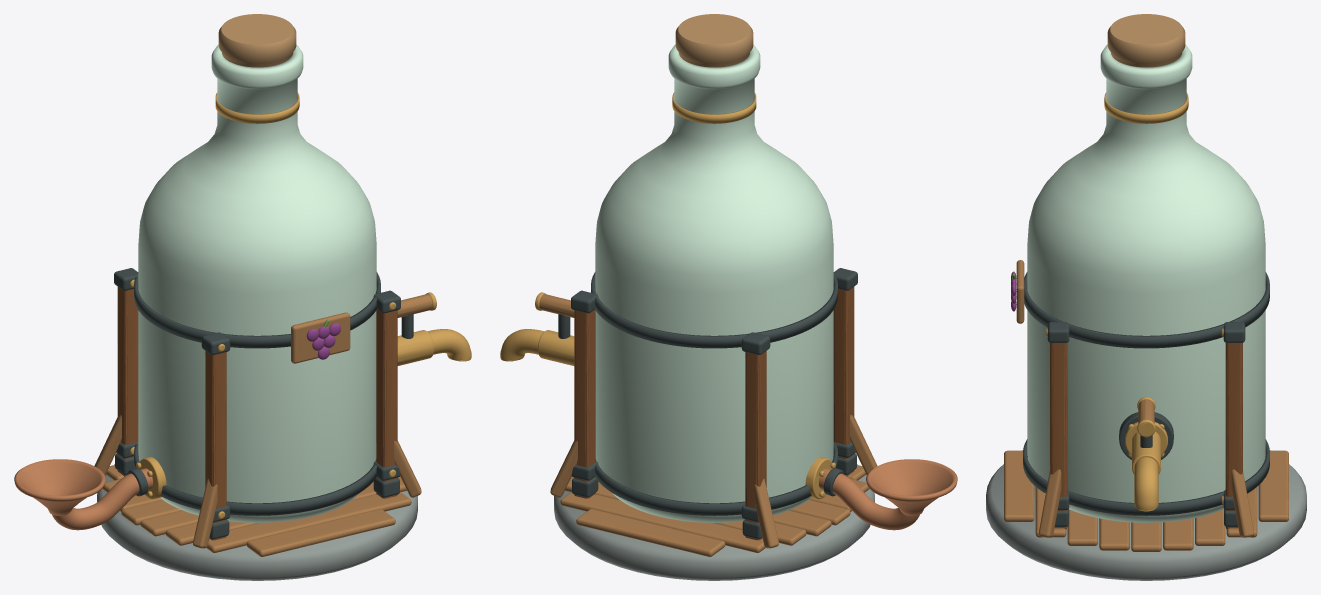
Rendered from GiantWineTank.fbx.
The picture shows the model from 3 angles, left to right: view 1: azimuth 30°, elevation 25°; view 2: azimuth 150°, elevation 25°; view 3: azimuth 270°, elevation 25°; orthographic projection.
Visible parts, largest first — view 1: WineBottle_Glass, Bottle_SupportStructure, WineBottle_Cork, WineInput_Funnel, WineInput_Pipe, Tank_GrapeSign, WineTap_Body, WineTap_Spout, WineTap_Handle, Neck_BrassBand, Input_Flange; view 2: WineBottle_Glass, Bottle_SupportStructure, WineBottle_Cork, WineInput_Funnel, WineInput_Pipe, WineTap_Body, WineTap_Spout, WineTap_Handle, Neck_BrassBand, Input_Flange; view 3: WineBottle_Glass, Bottle_SupportStructure, WineBottle_Cork, WineTap_Spout, Neck_BrassBand, WineTap_Handle, Tap_Flange, WineTap_Body, Tank_GrapeSign, Tap_Flange_Trim.
Part boxes in pixels (box(x1,y1,x2,y2)): WineBottle_Glass: box(138, 44, 376, 522); Bottle_SupportStructure: box(94, 268, 421, 580); WineBottle_Cork: box(218, 14, 296, 67); WineInput_Funnel: box(14, 459, 105, 515); WineInput_Pipe: box(52, 468, 153, 530); Tank_GrapeSign: box(291, 312, 350, 363); WineTap_Body: box(397, 330, 433, 365); WineTap_Spout: box(427, 329, 471, 361); WineTap_Handle: box(397, 292, 436, 338); Neck_BrassBand: box(215, 92, 299, 123); Input_Flange: box(139, 457, 166, 499); WineBottle_Glass: box(595, 44, 833, 522); Bottle_SupportStructure: box(550, 268, 877, 580); WineBottle_Cork: box(675, 14, 753, 67); WineInput_Funnel: box(866, 459, 957, 515); WineInput_Pipe: box(818, 468, 919, 530); WineTap_Body: box(538, 330, 574, 365); WineTap_Spout: box(500, 329, 544, 361); WineTap_Handle: box(535, 292, 574, 338); Neck_BrassBand: box(672, 92, 756, 123); Input_Flange: box(805, 457, 832, 499); WineBottle_Glass: box(1027, 44, 1265, 522); Bottle_SupportStructure: box(986, 272, 1306, 580); WineBottle_Cork: box(1107, 14, 1185, 67); WineTap_Spout: box(1134, 457, 1158, 511); Neck_BrassBand: box(1104, 92, 1188, 123); WineTap_Handle: box(1137, 397, 1155, 447); Tap_Flange: box(1119, 412, 1173, 459); WineTap_Body: box(1132, 431, 1160, 474); Tank_GrapeSign: box(1016, 260, 1024, 323); Tap_Flange_Trim: box(1125, 422, 1167, 455).
Bounding box in the file's own units: 8.15 × 8.43 × 5.04.
